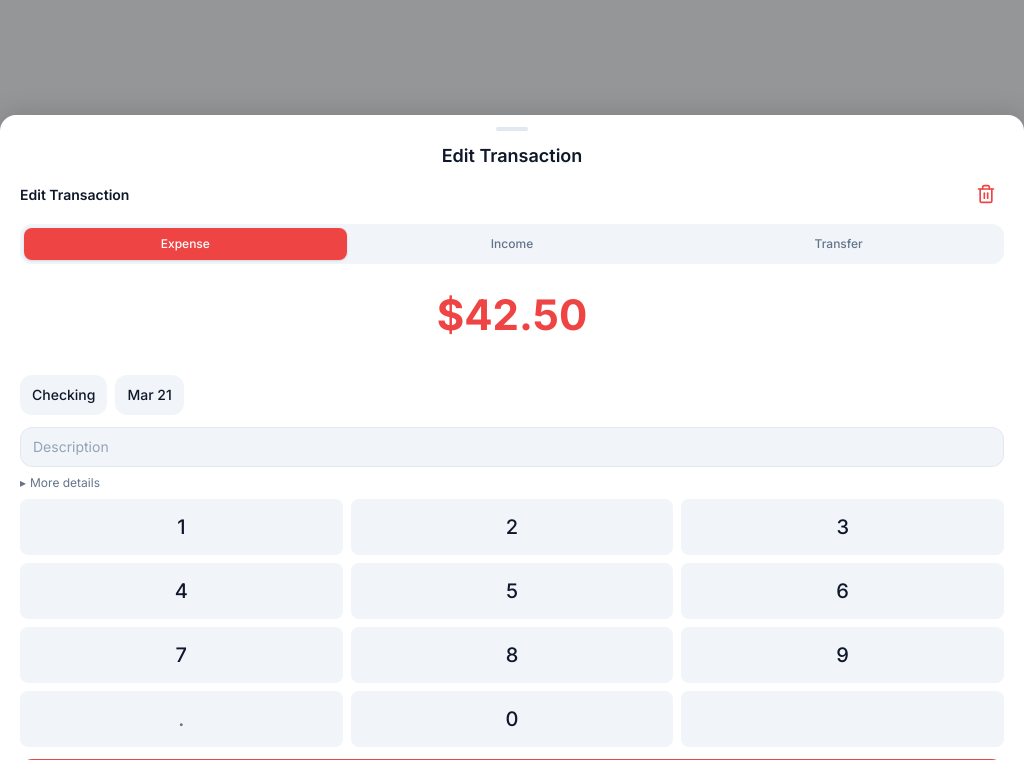
Test: EditTransactionSheet › shows error message when deleteTransaction throws
Click the button named "Delete transaction": (986, 194) 968,176 -> 1004,212
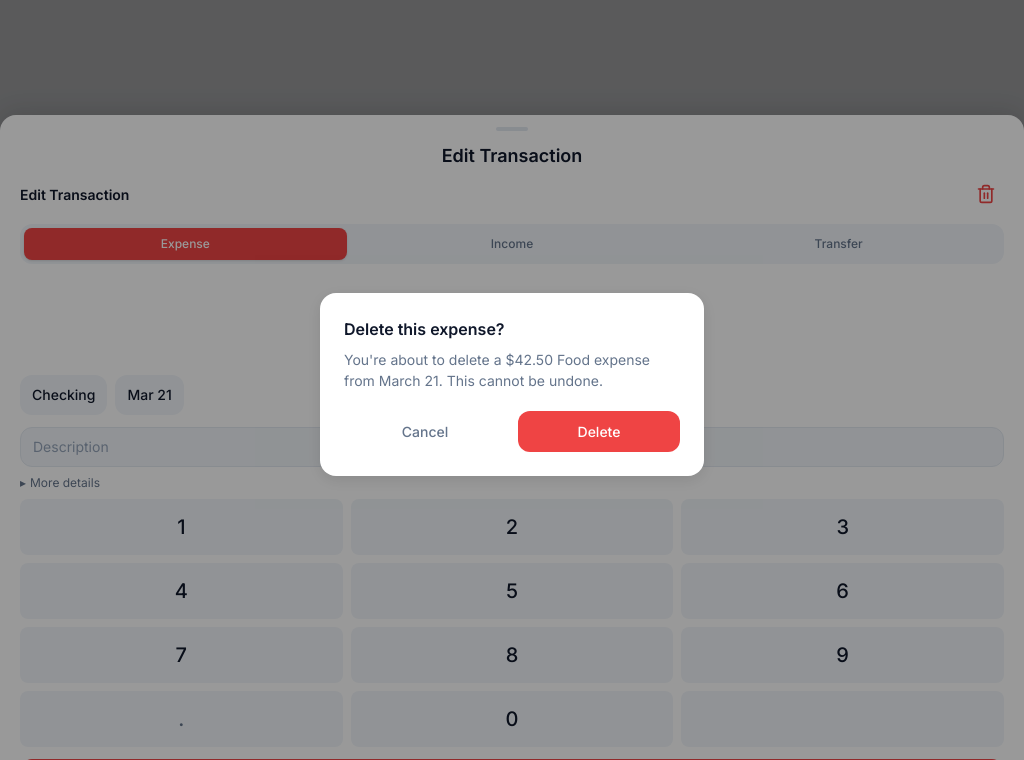
Click the button "Delete": (599, 431) 518,410 -> 680,452
(page scrolled)
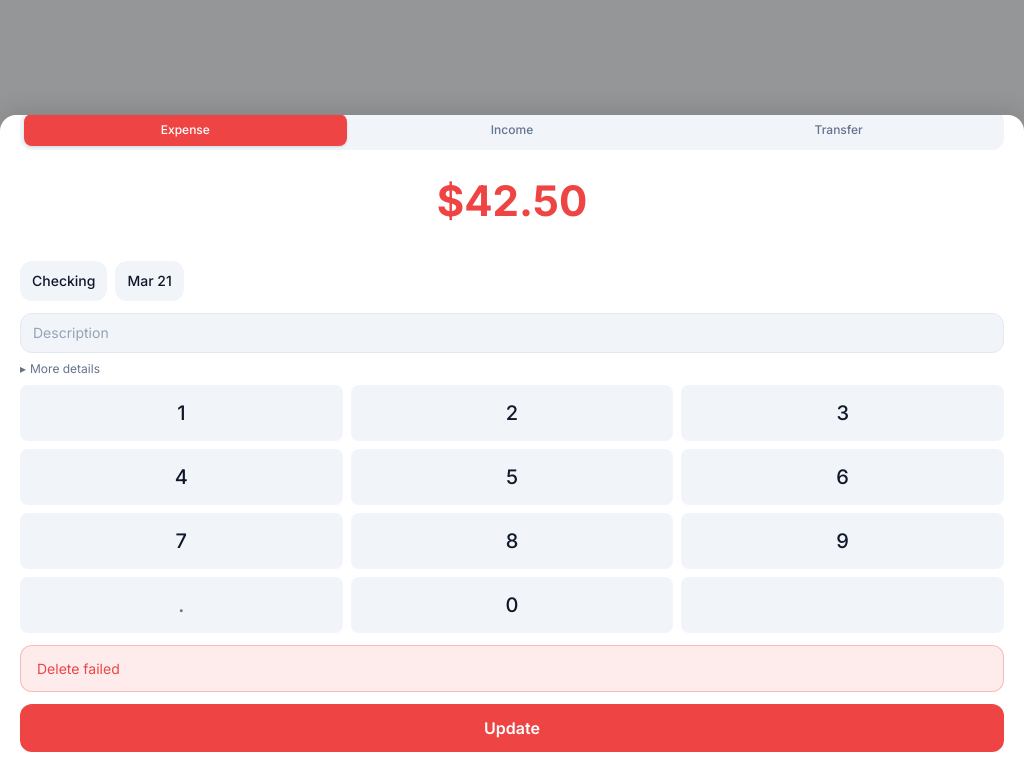
Check: the text "Delete failed" is shown, box 20,645 -> 1004,692
